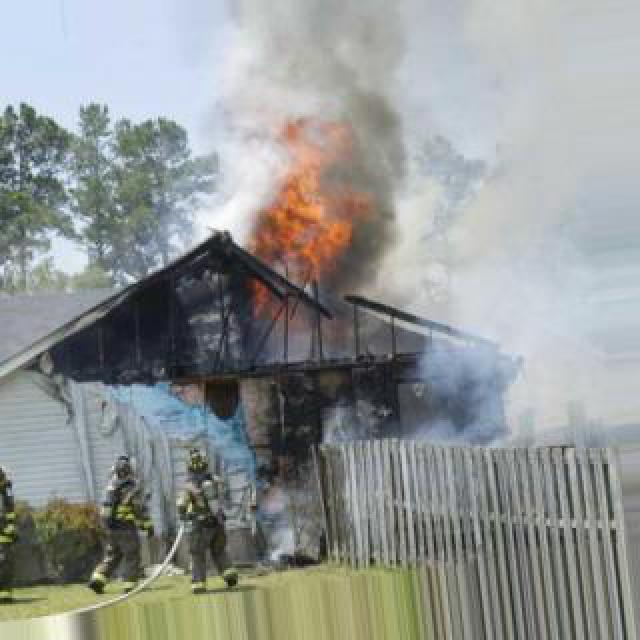Fire: (240, 158, 354, 300)
Smoke: (328, 20, 416, 296), (320, 342, 436, 448), (256, 470, 324, 574)
